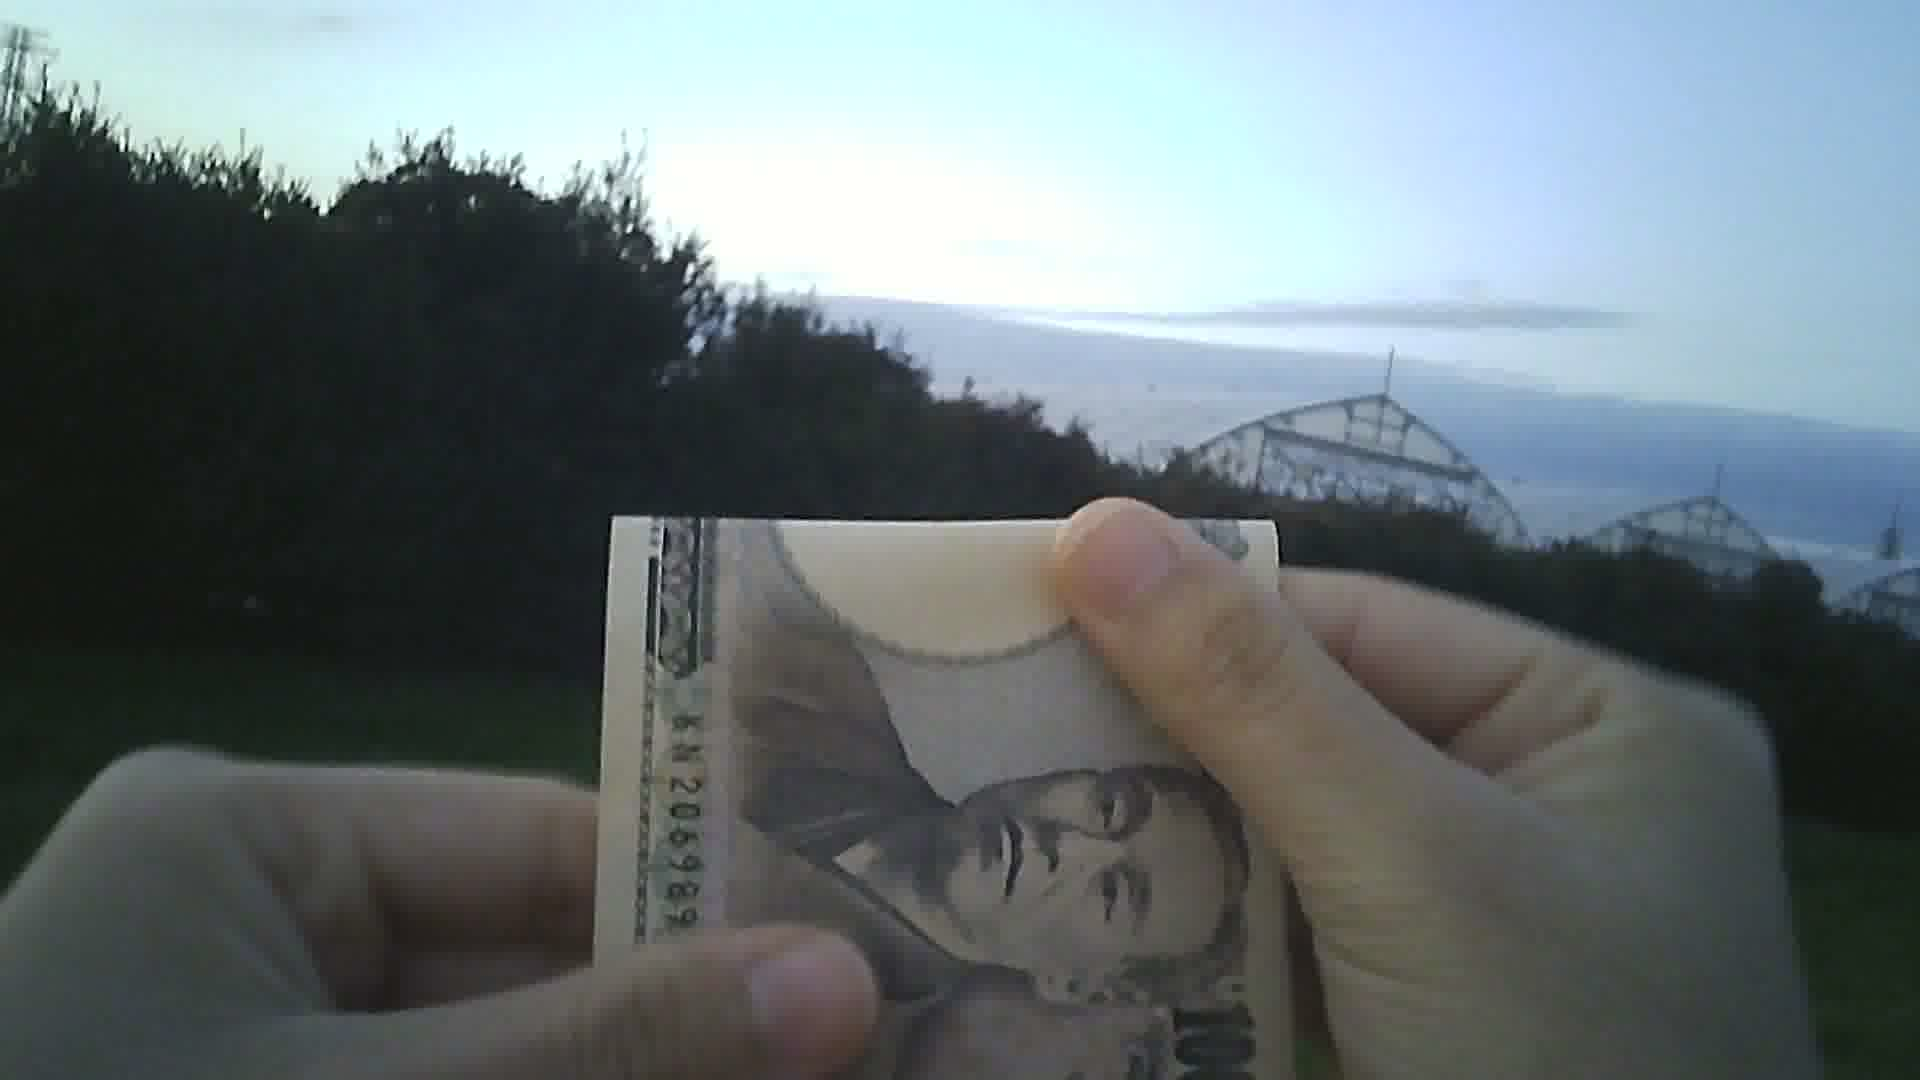10,000 Yen: (553, 476, 1335, 1062)
